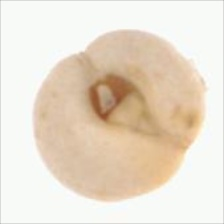L3: (84, 67, 163, 138)
L4: (33, 29, 205, 201)
